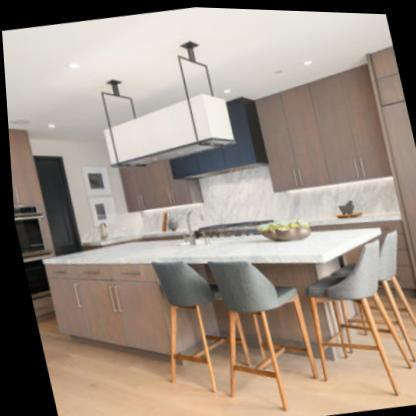Cabinet: (250, 61, 389, 192), (39, 259, 169, 356)
Dining Table: (153, 211, 416, 395)
